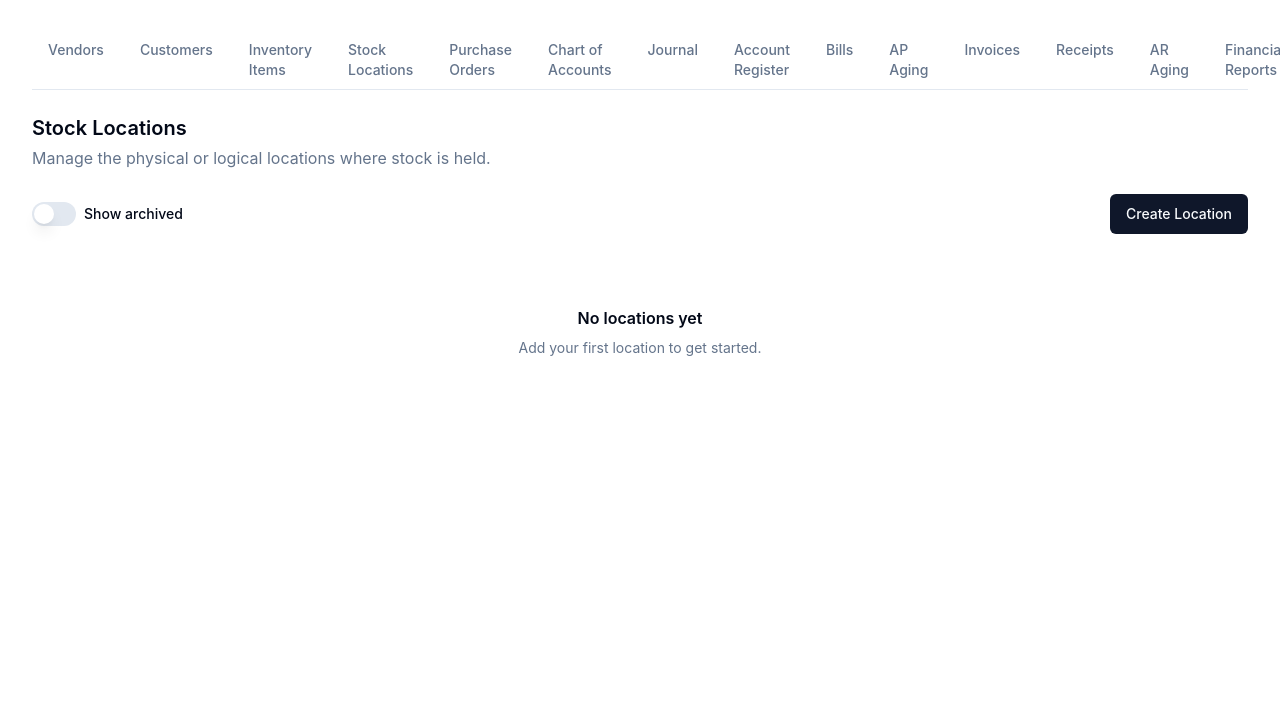
Test: StockLocations screen › opens the create Sheet with a required Name field
The width and height of the screenshot is (1280, 720).
Click the button "Create Location" at {"x": 1179, "y": 214}, box [1110,194,1248,234]
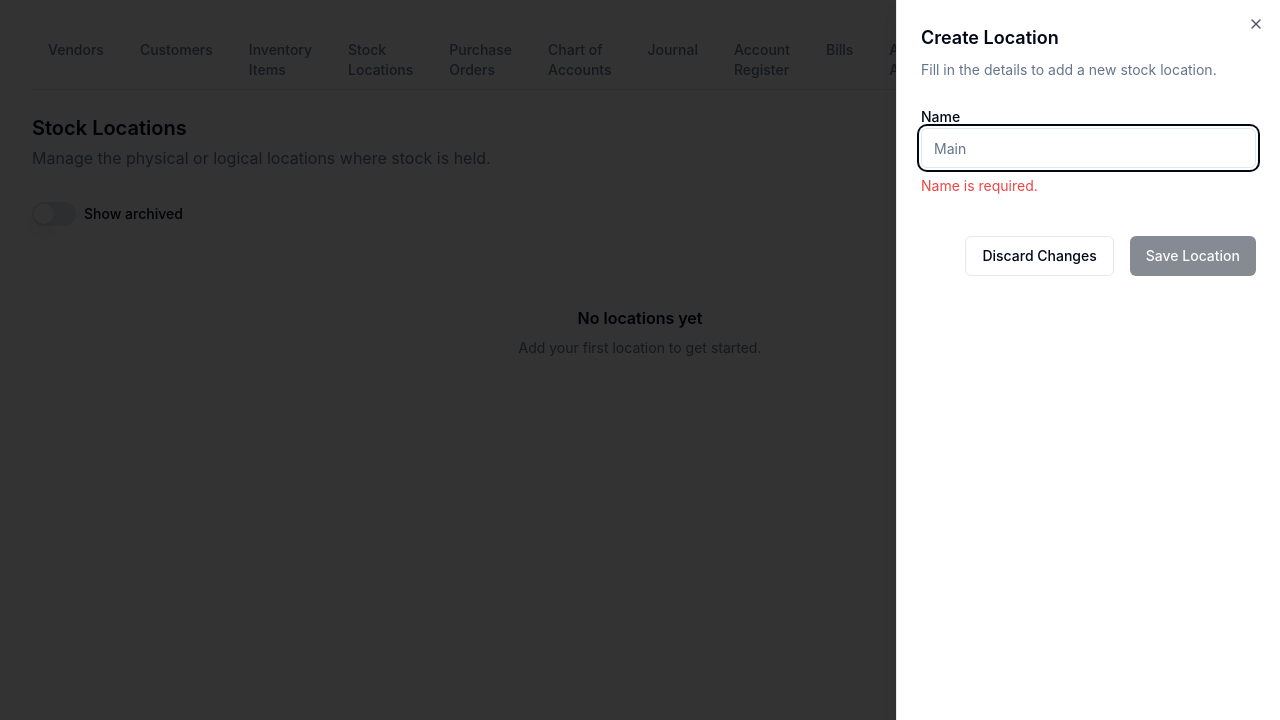
expect the heading "Create Location" is shown: met, box [921,27,1059,48]
expect the field labelled "Name" is shown: met
expect the button "Save Location" is disabled: met, box [1130,236,1256,276]
Type "Warehouse B" into the field labelled "Name" at {"x": 1088, "y": 148}, box [921,128,1256,168]
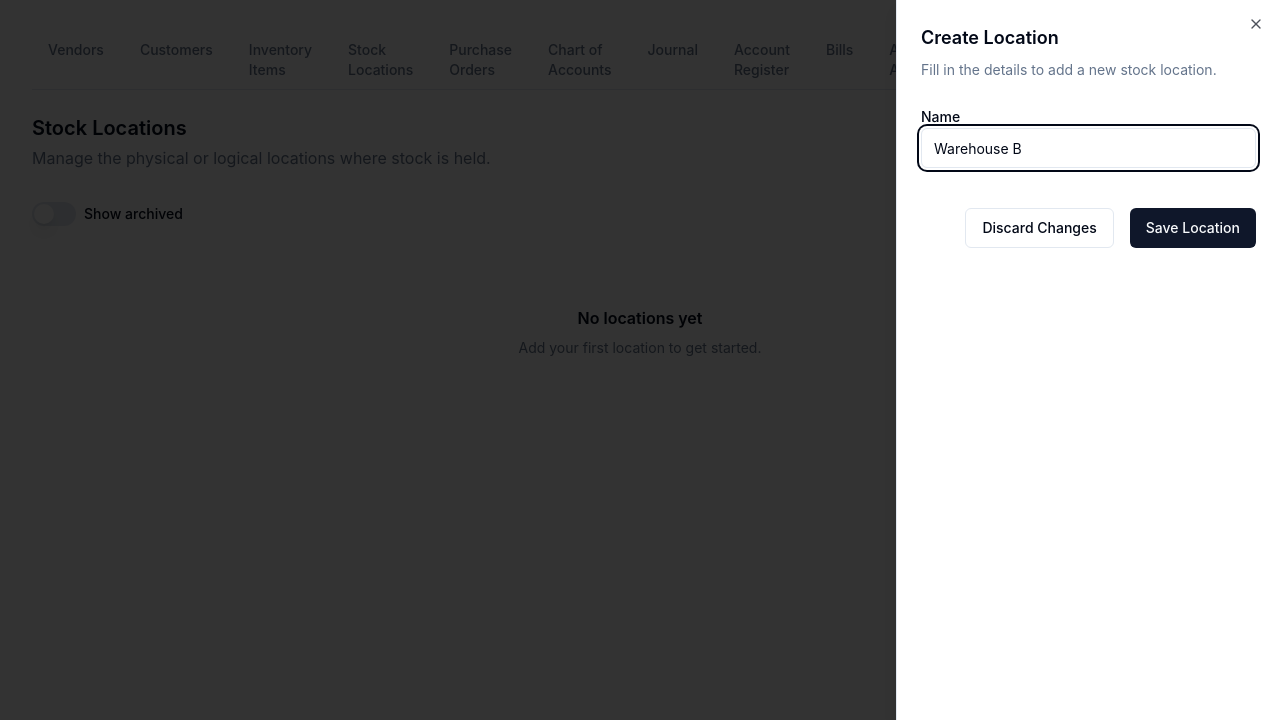
expect the button "Save Location" is enabled: met, box [1130,208,1256,248]
